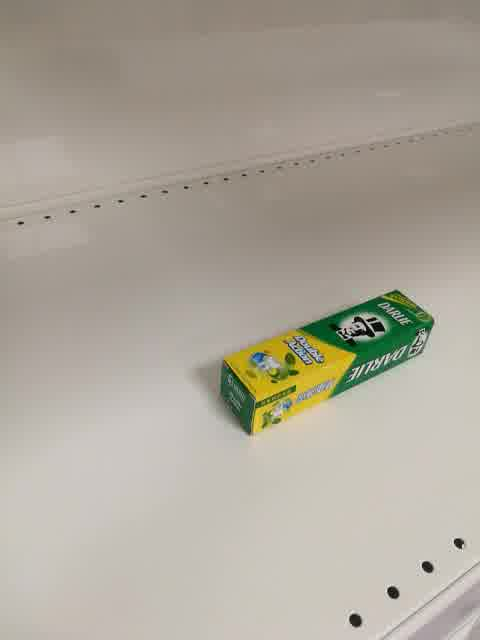toothpaste: (218, 287, 433, 439)
